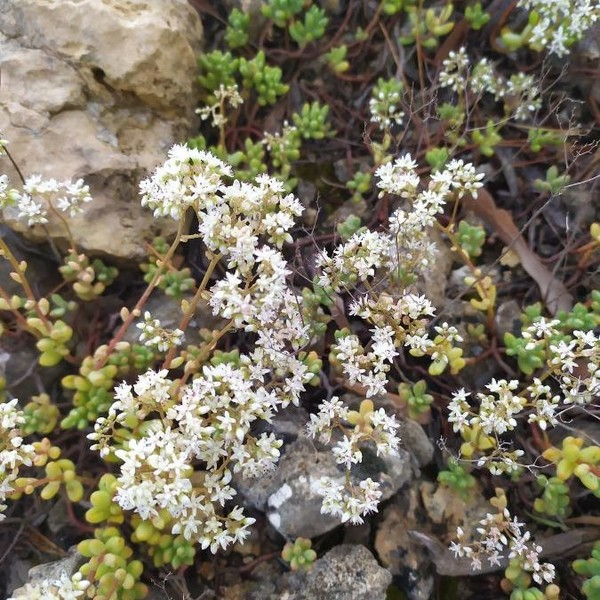obstacle: (100, 142, 417, 524), (452, 292, 582, 554)
